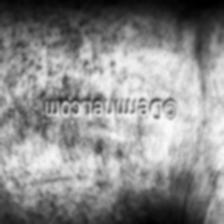Non-Cancerous Skin Condition: (12, 1, 105, 96)
